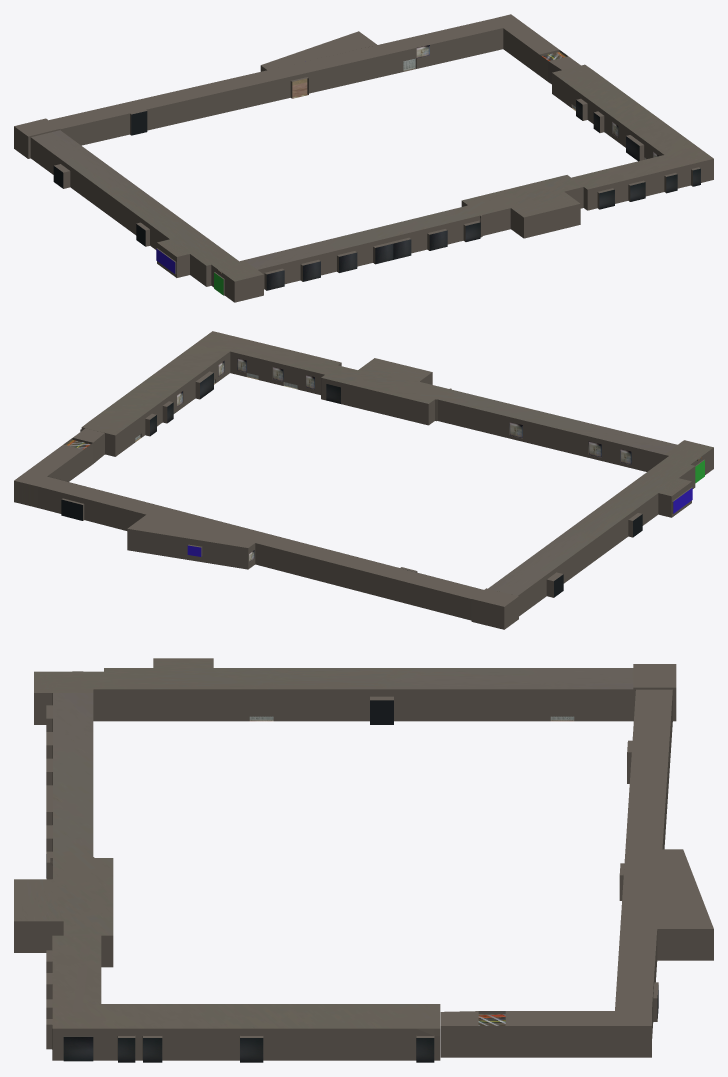
Rendered from esat_round.dae.
3 views of the same model, one above another, from view 1: azimuth 30°, elevation 25°; view 2: azimuth 150°, elevation 25°; view 3: azimuth 270°, elevation 25° (orthographic). The views are drawn at different scales.
Visible parts, largest first — view 1: Cube; view 2: Cube; view 3: Cube.
Boxes of the visible parts, x1,y1,x2,y2 form: Cube: (14,14,713,302); Cube: (14,331,713,629); Cube: (14,658,713,1062).
Size of the model in its own units: 62.92 by 49.83 by 2.67.
Materials: 8 (7 with a texture image).
